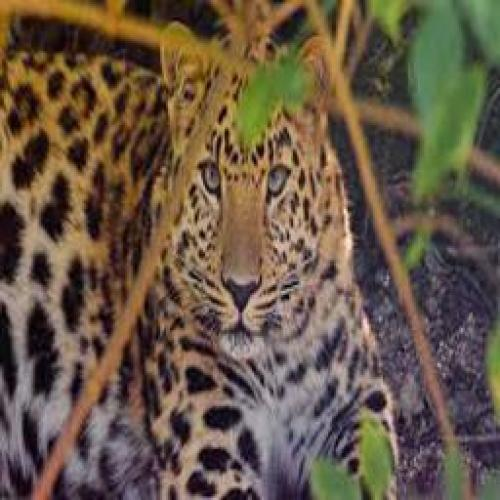amur_leopard-endangered: (114, 15, 370, 422)
